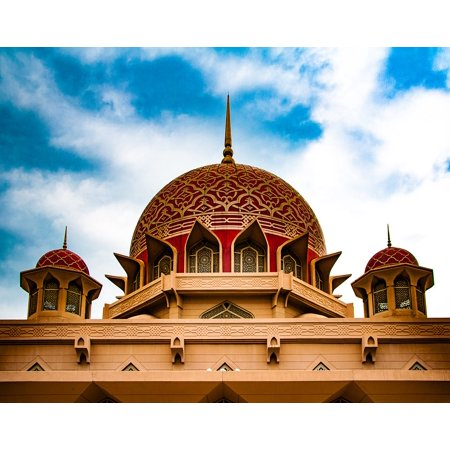Mosque: (11, 86, 431, 378)
